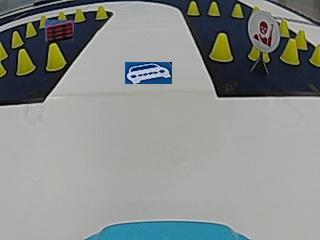evil: (247, 10, 279, 52)
